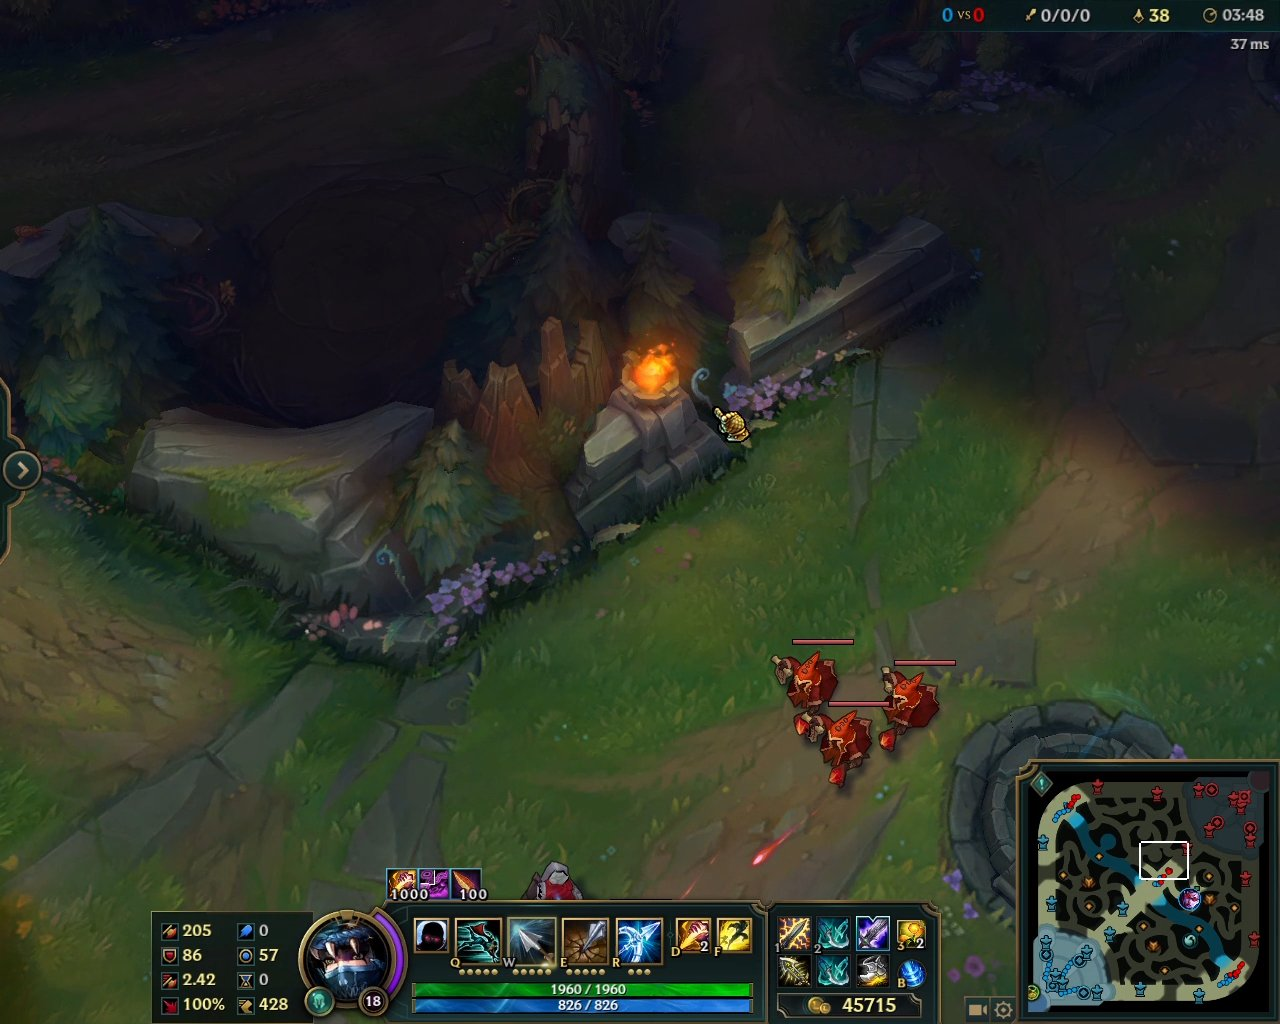EnemyMinion: (797, 698, 892, 793), (770, 638, 856, 739), (878, 656, 956, 753)
